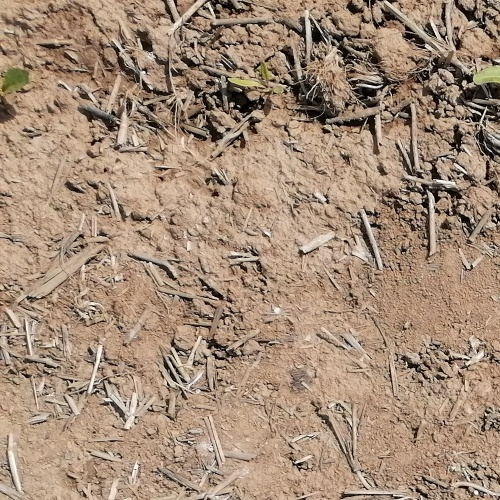beet: (228, 61, 282, 97), (0, 66, 31, 95), (473, 65, 500, 88)
